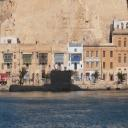submarine: (7, 71, 97, 91)
